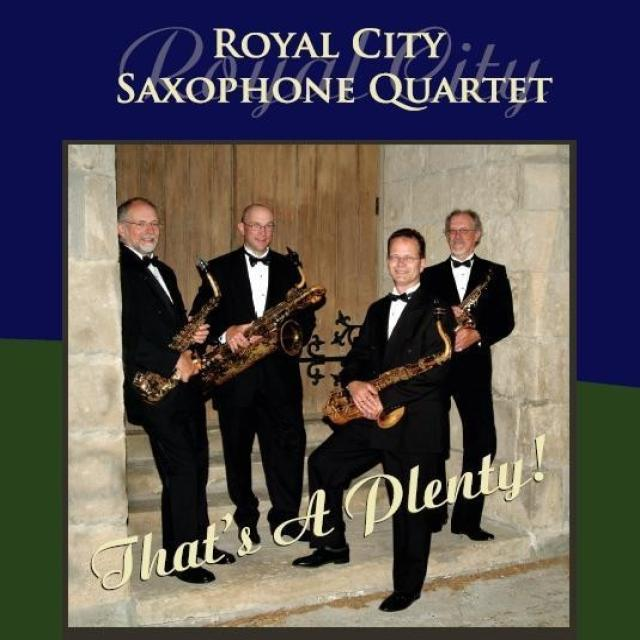saxophone: (318, 304, 468, 431), (193, 246, 330, 383), (126, 256, 226, 408)
